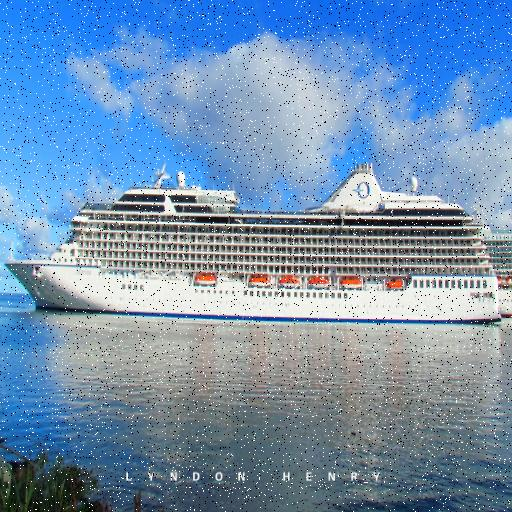cruises: (4, 158, 505, 331)
